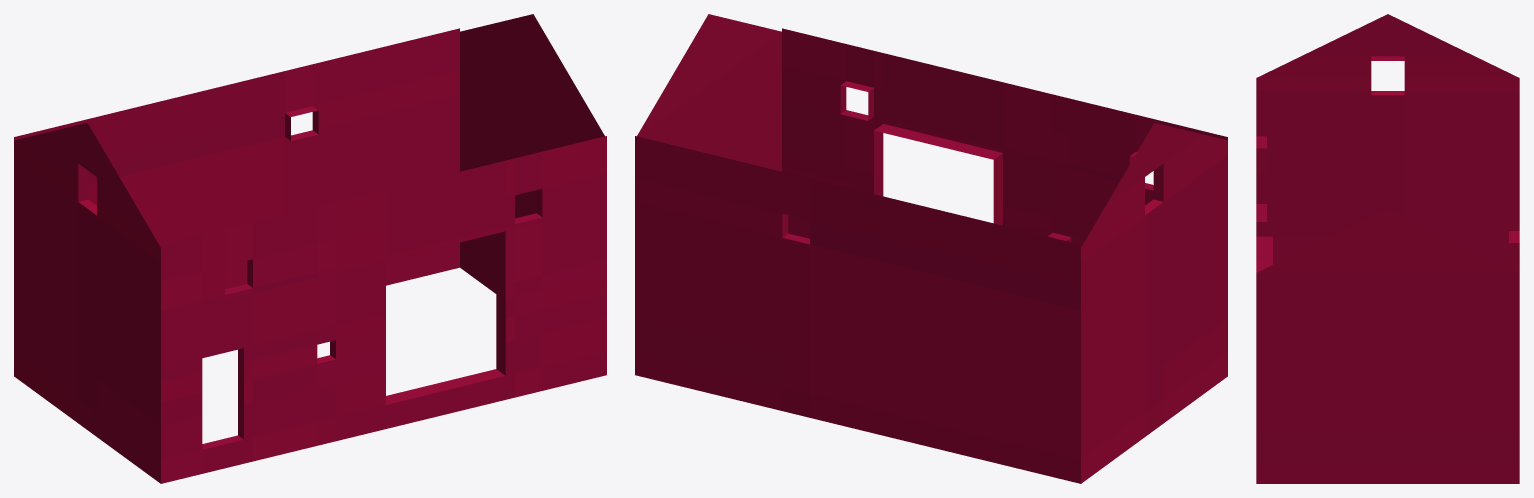
Rendered from SM_Bld_181_Masonry.glb.
3 renders of one model, left to right at view 1: azimuth 30°, elevation 25°; view 2: azimuth 150°, elevation 25°; view 3: azimuth 270°, elevation 25°, orthographic. The views are drawn at different scales.
Visible parts, largest first — view 1: SM_Bld_181_Masonry; view 2: SM_Bld_181_Masonry; view 3: SM_Bld_181_Masonry.
Part boxes in pixels (bbox=[...]): SM_Bld_181_Masonry: bbox=[14, 14, 606, 483]; SM_Bld_181_Masonry: bbox=[635, 14, 1227, 483]; SM_Bld_181_Masonry: bbox=[1256, 14, 1519, 483].
Bounding box in the file's own units: 9.69 × 6.38 × 5.53.
